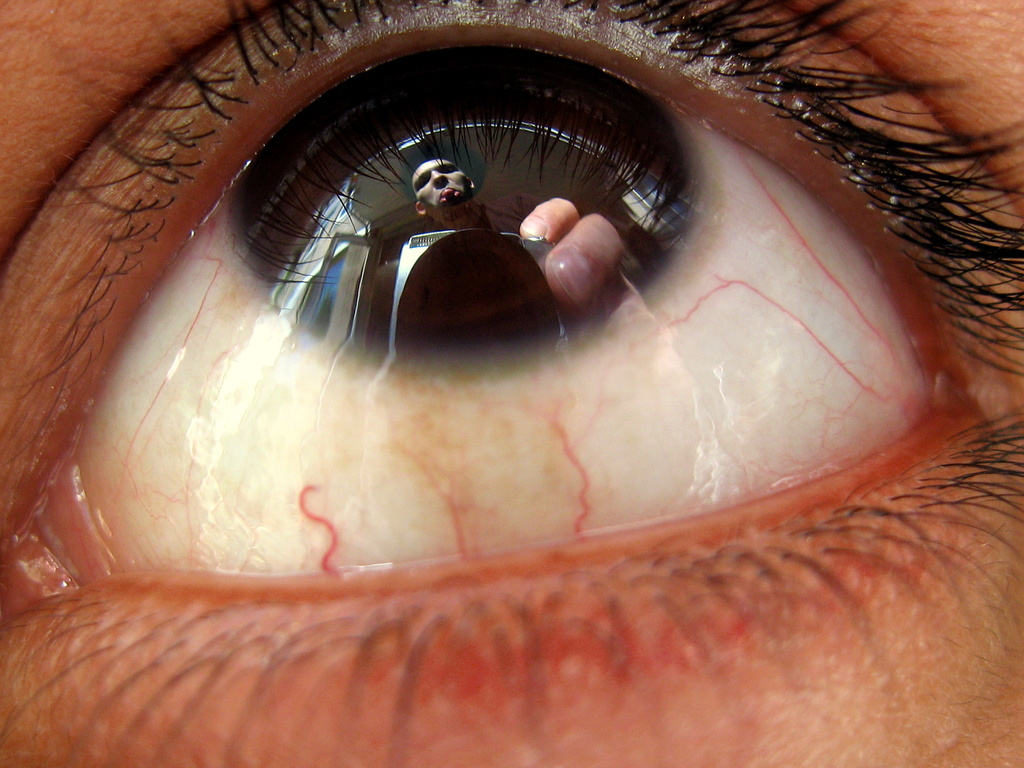Person: (0, 0, 1023, 767), (392, 158, 631, 377)
